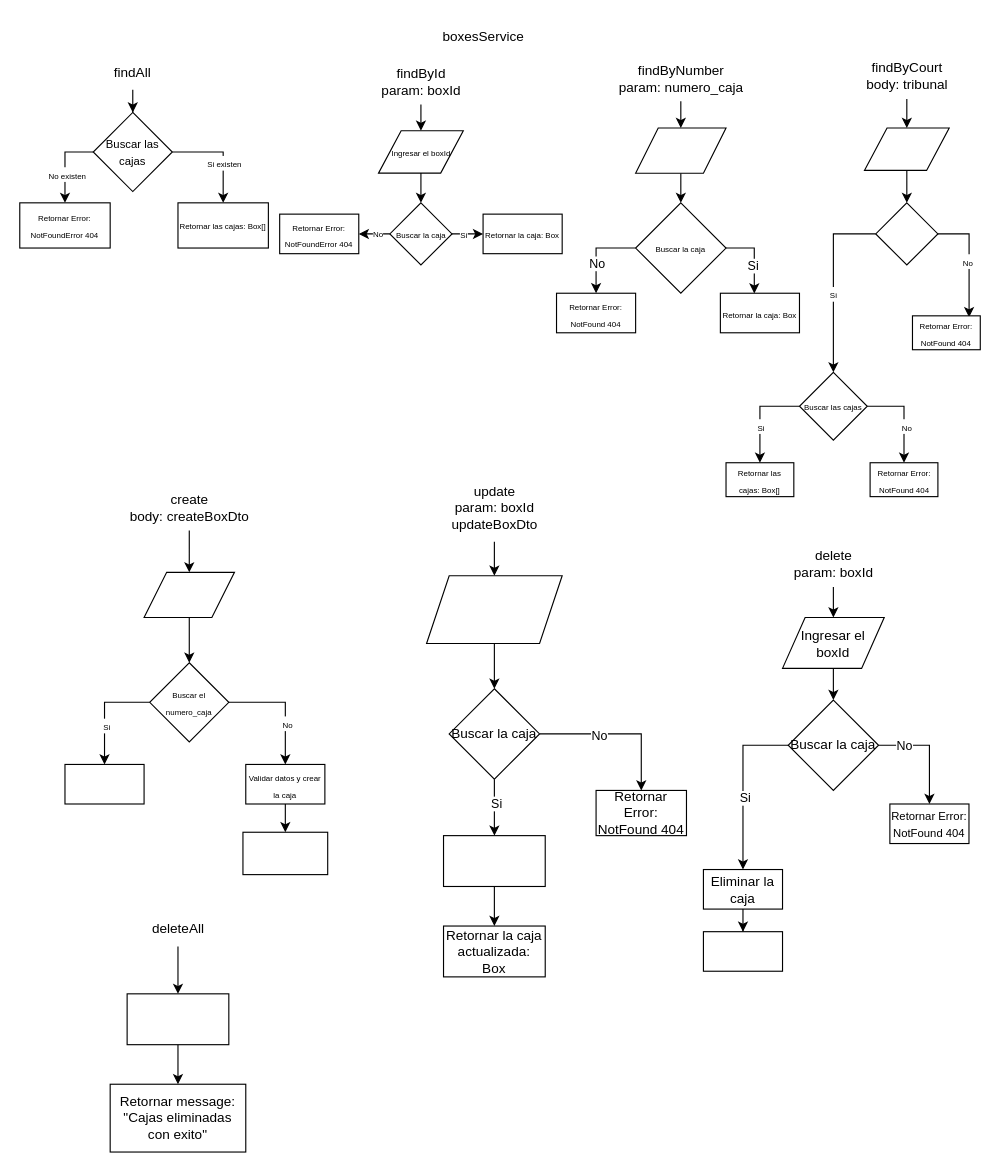
Some shapes in this 1000 by 1172 pixel diagram are drawn without their labels. The shapes that lost their labels are listed below. From the top down, each one's centre as x and y in pixels, then its label:
(680,150): Ingresar el numero_caja
(906,148): Ingresar el courtId
(906,233): Buscar el tribunal
(188,594): Ingresar el createBoxDto
(493,609): Ingresar el boxId y el updateBoxDto
(104,783): Retornar Error: BadRequest 400
(285,853): Retornar la nueva caja: Box
(493,860): Validar los datos y actualizar la caja
(742,951): Retornar message: "Caja eliminada con exito"
(177,1019): Eliminar todas las cajas
